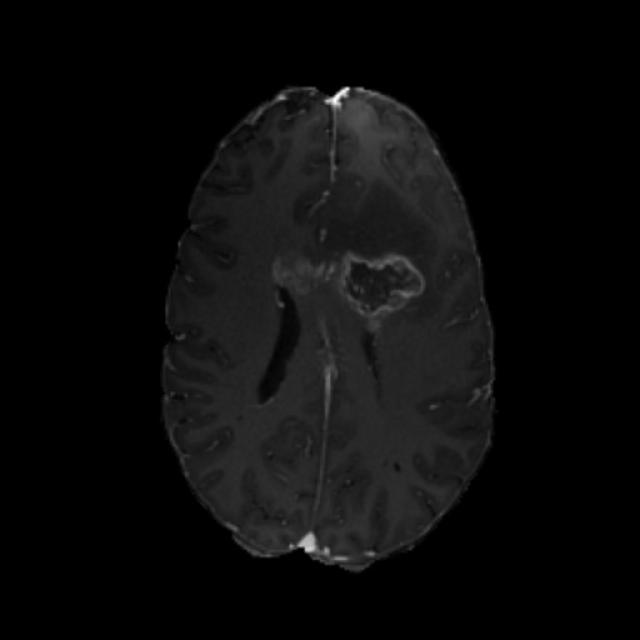negative: (338, 249, 424, 317)
